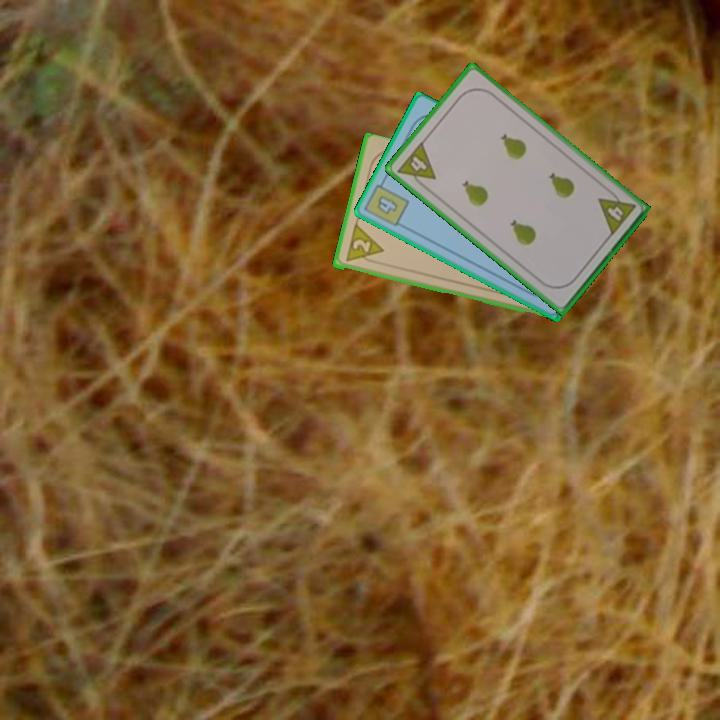2p: (341, 222, 386, 266)
4b: (361, 175, 412, 230)
4p: (394, 138, 439, 192), (594, 185, 638, 239)
